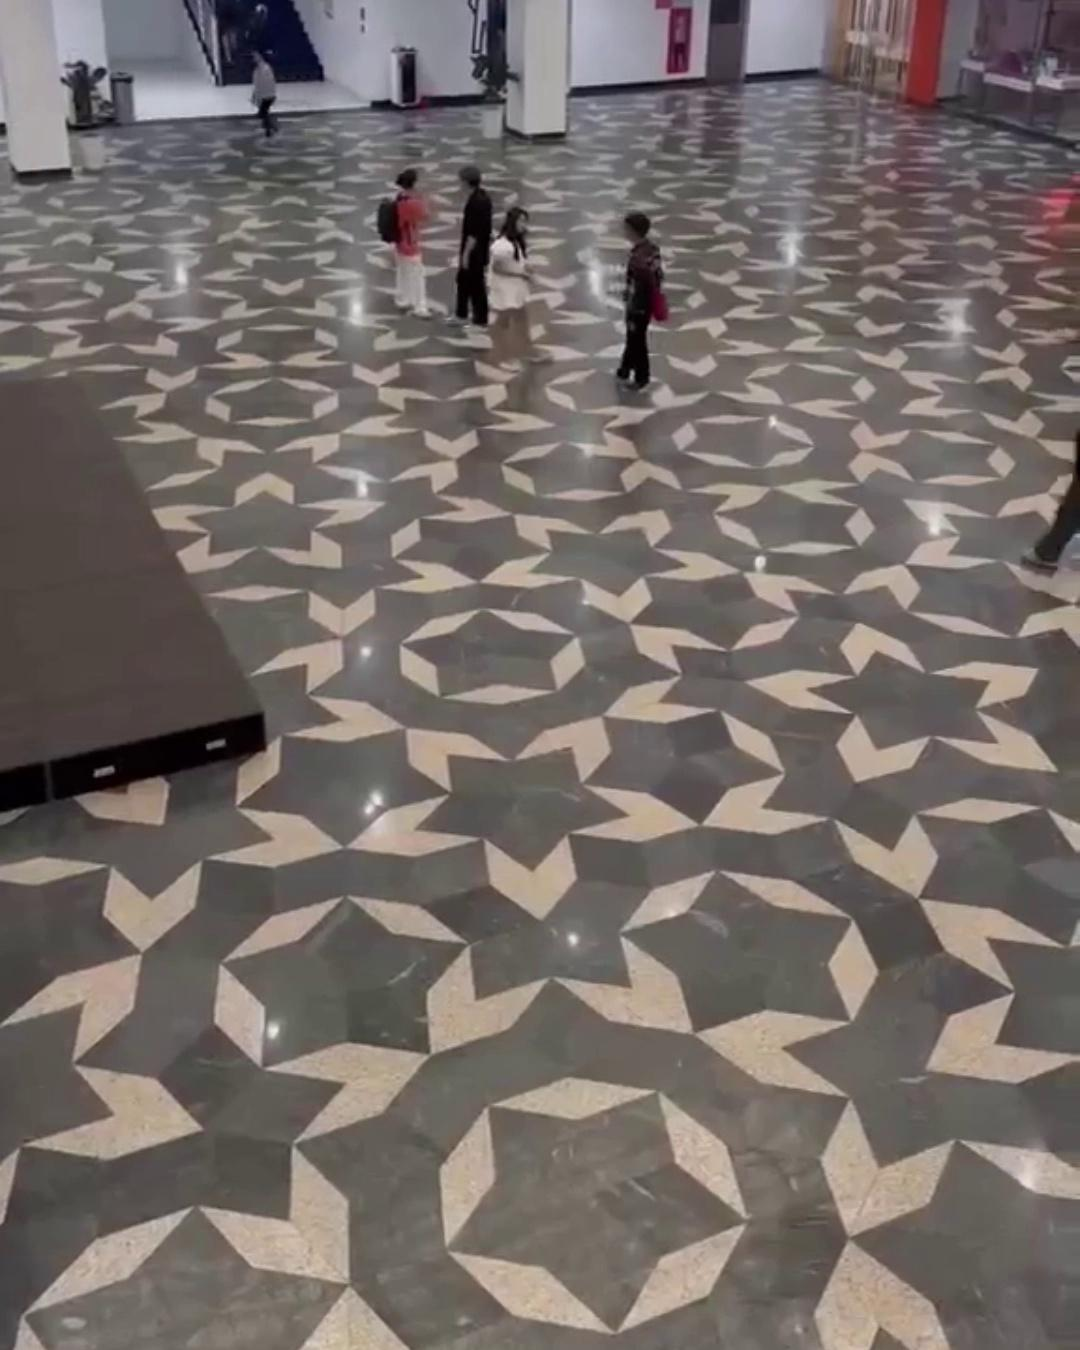your_class: (614, 210, 669, 396), (488, 205, 548, 374), (376, 168, 434, 321), (1020, 428, 1080, 574), (444, 164, 493, 326), (249, 48, 283, 145), (215, 0, 248, 67)
